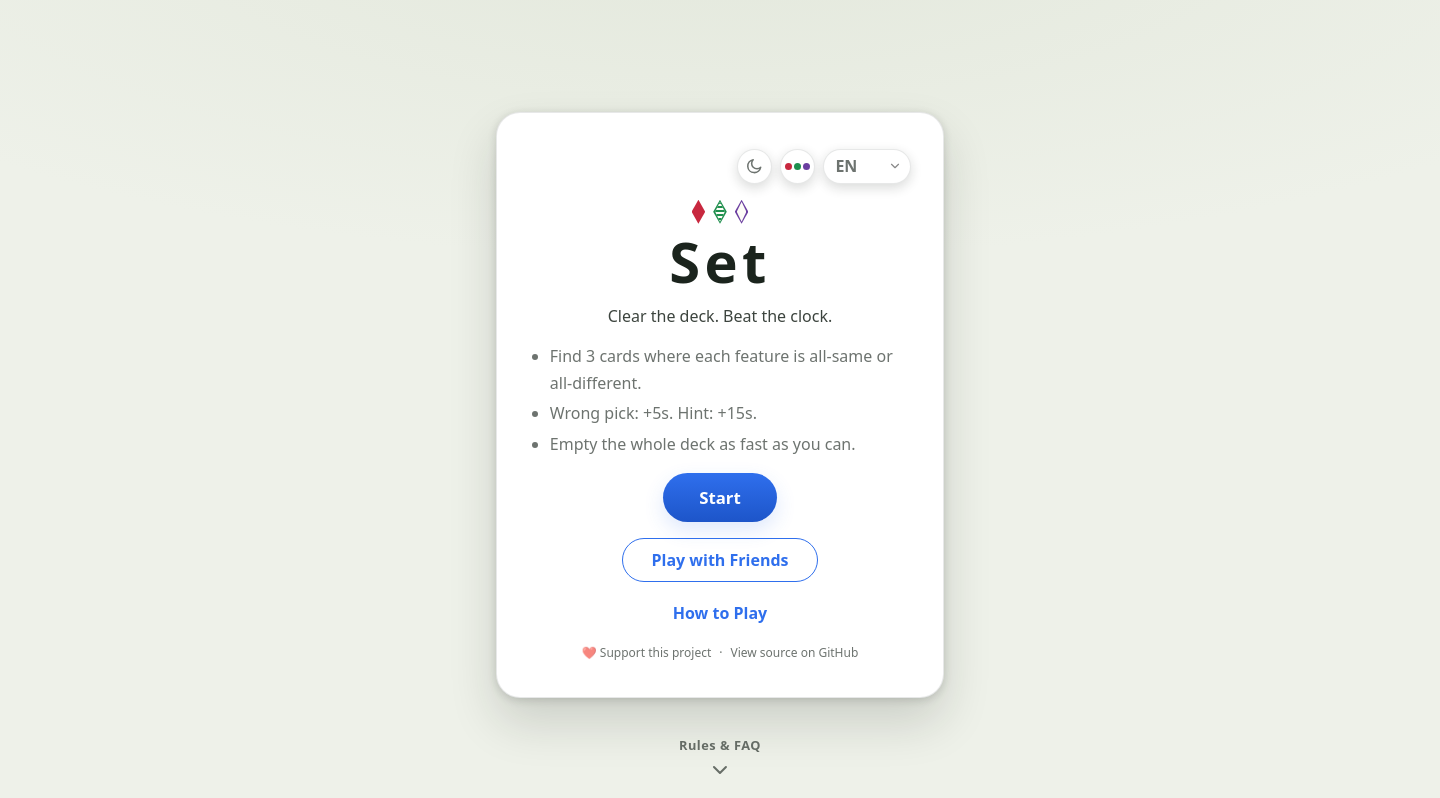
Scenario: pauses from the topbar and resumes from the overlay
Click the button "Start" at (720, 497), box 663,473 -> 777,522
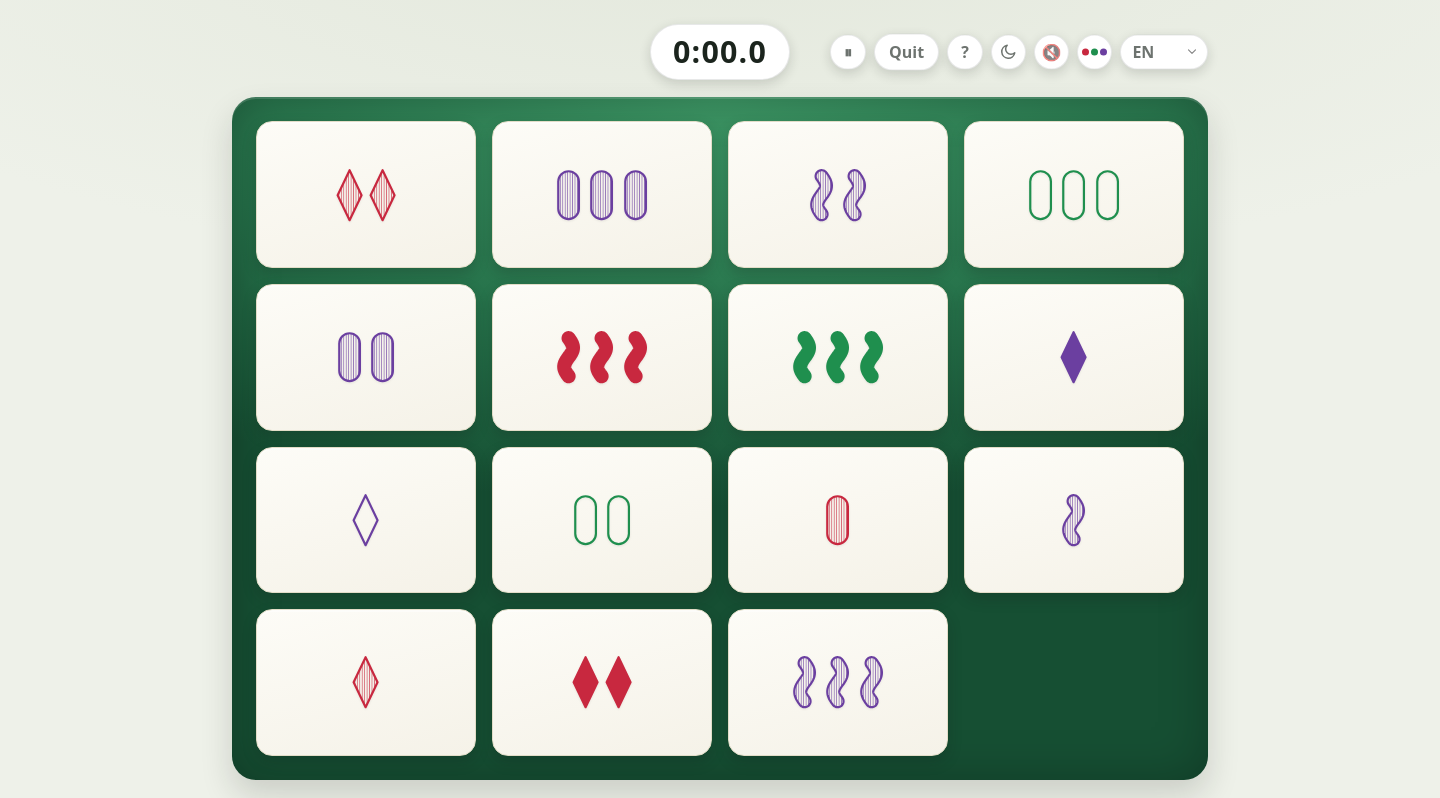
Click the button named "pause" at (848, 52), box 830,34 -> 866,70
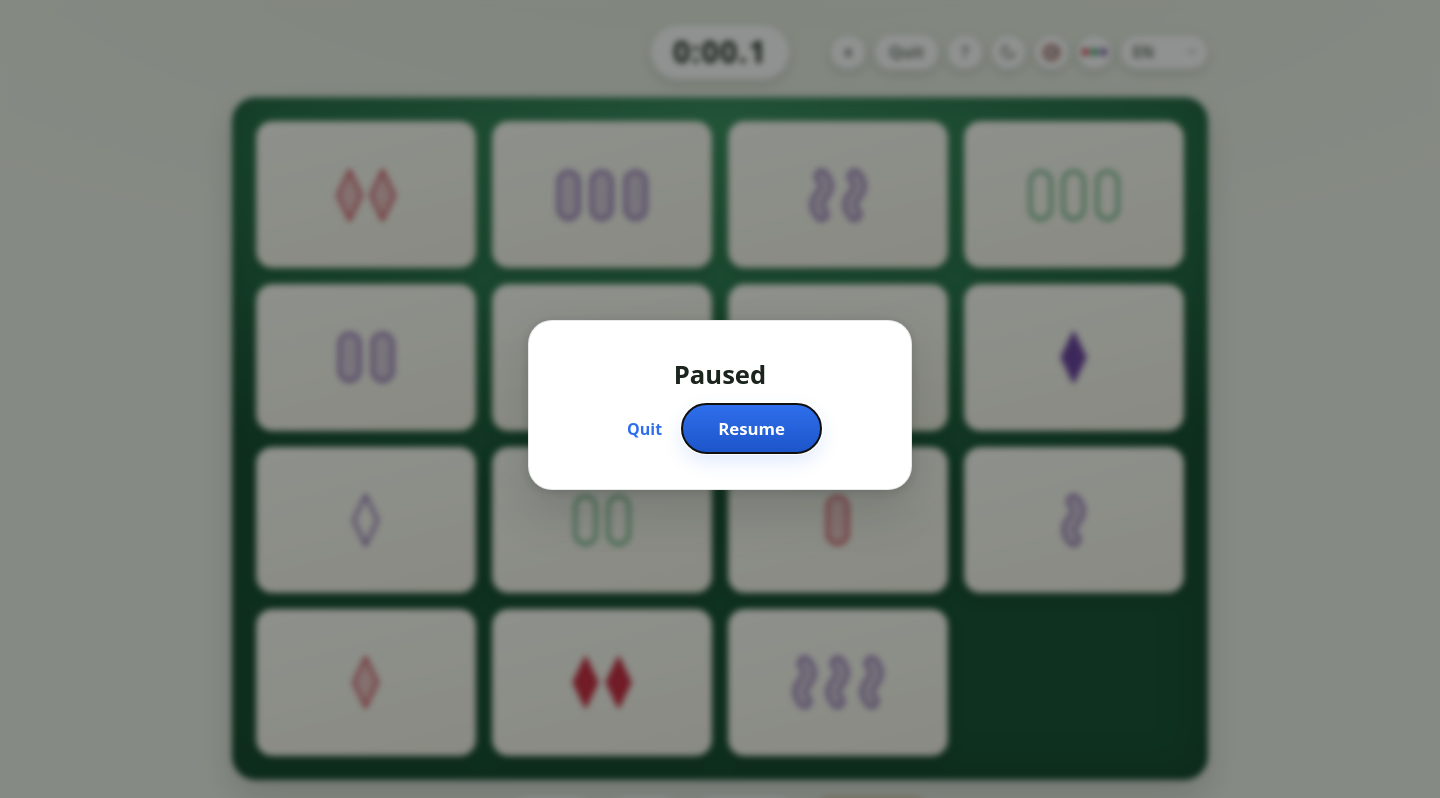
Click the button "Resume" at (752, 428), box 682,404 -> 821,453
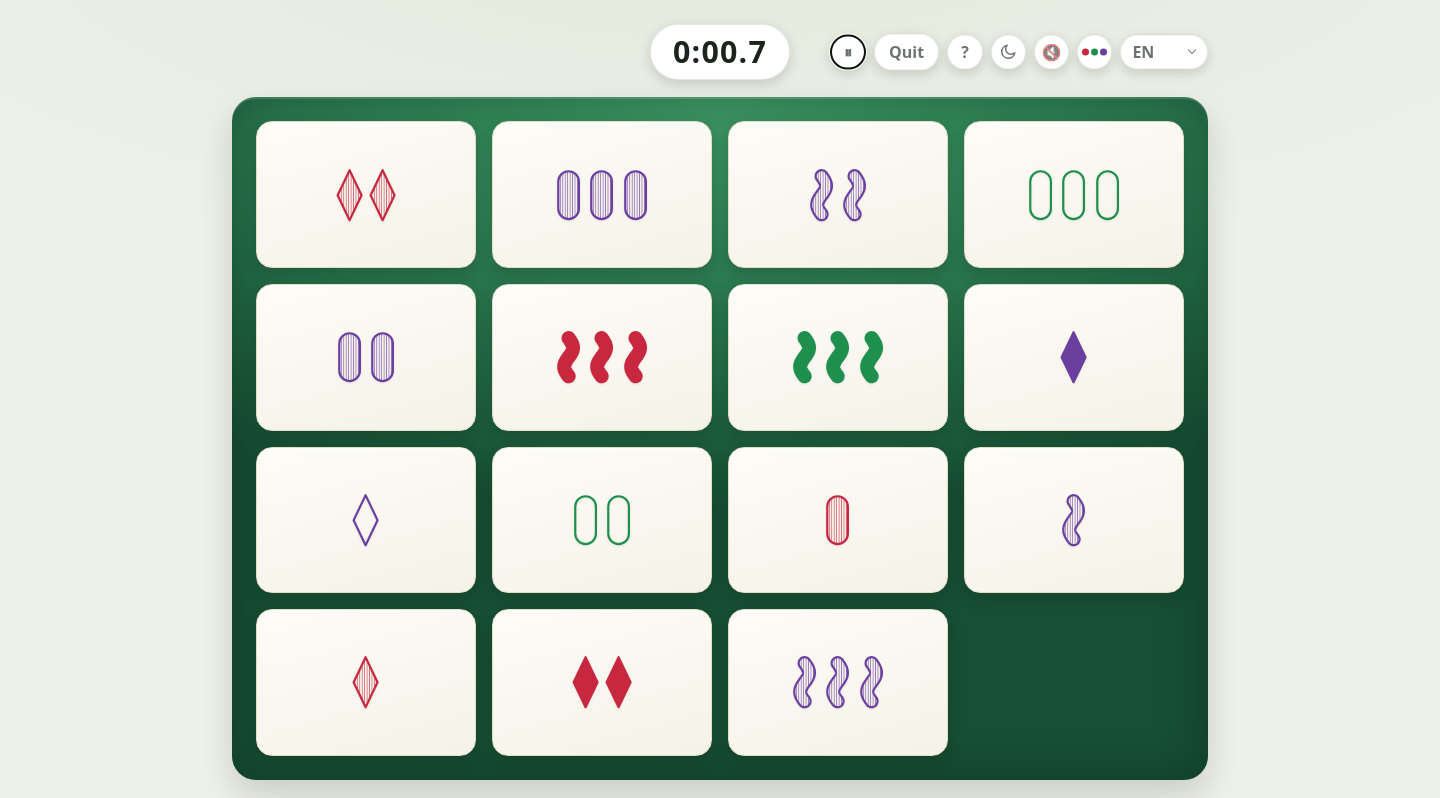
Check: the heading "Paused" is gone
